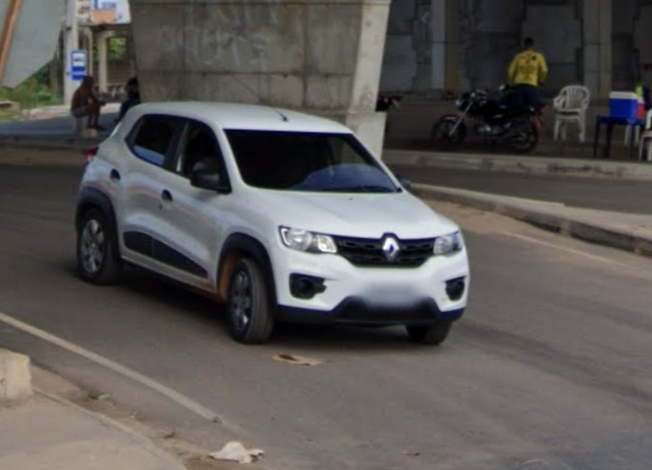car: (72, 60, 472, 347)
